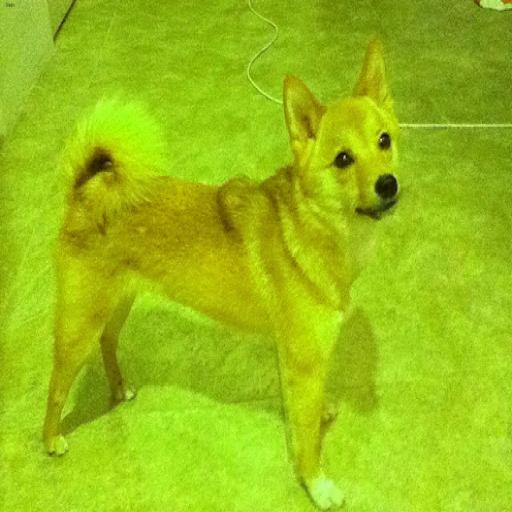dog_face: (291, 49, 406, 237)
